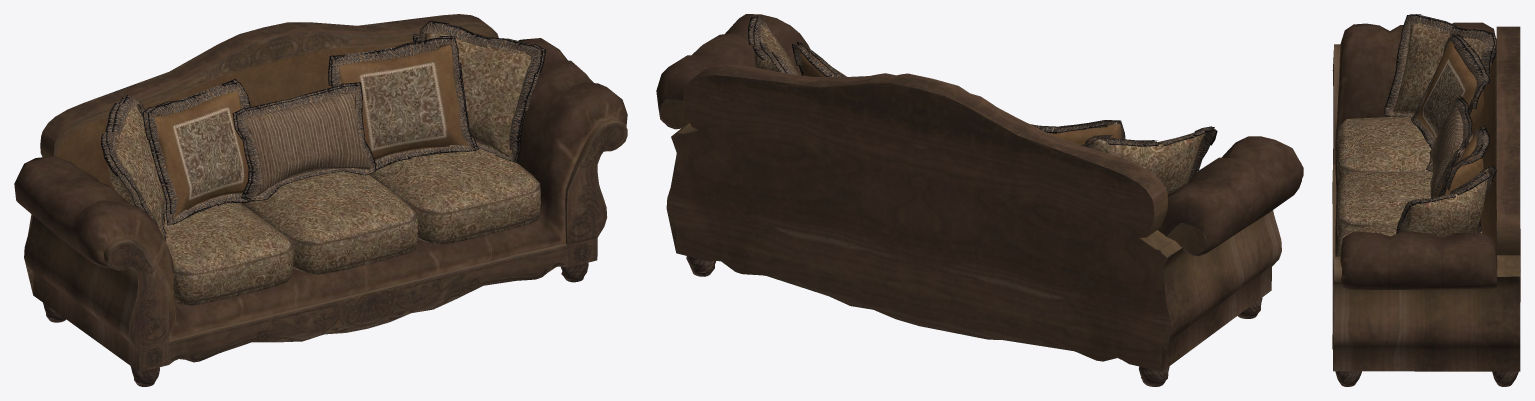
File: sofa_03_1k.glb
3 renders of one model, left to right at view 1: azimuth 30°, elevation 25°; view 2: azimuth 150°, elevation 25°; view 3: azimuth 270°, elevation 25°, orthographic. The views are drawn at different scales.
Visible parts, largest first — view 1: sofa_03; view 2: sofa_03; view 3: sofa_03.
Part boxes in pixels (bbox=[...]): sofa_03: bbox=[14, 14, 627, 386]; sofa_03: bbox=[656, 14, 1303, 386]; sofa_03: bbox=[1332, 14, 1520, 386].
Bounding box in the file's own units: 2.73 × 1.12 × 0.9199.
Materials: 2 (2 with a texture image).
